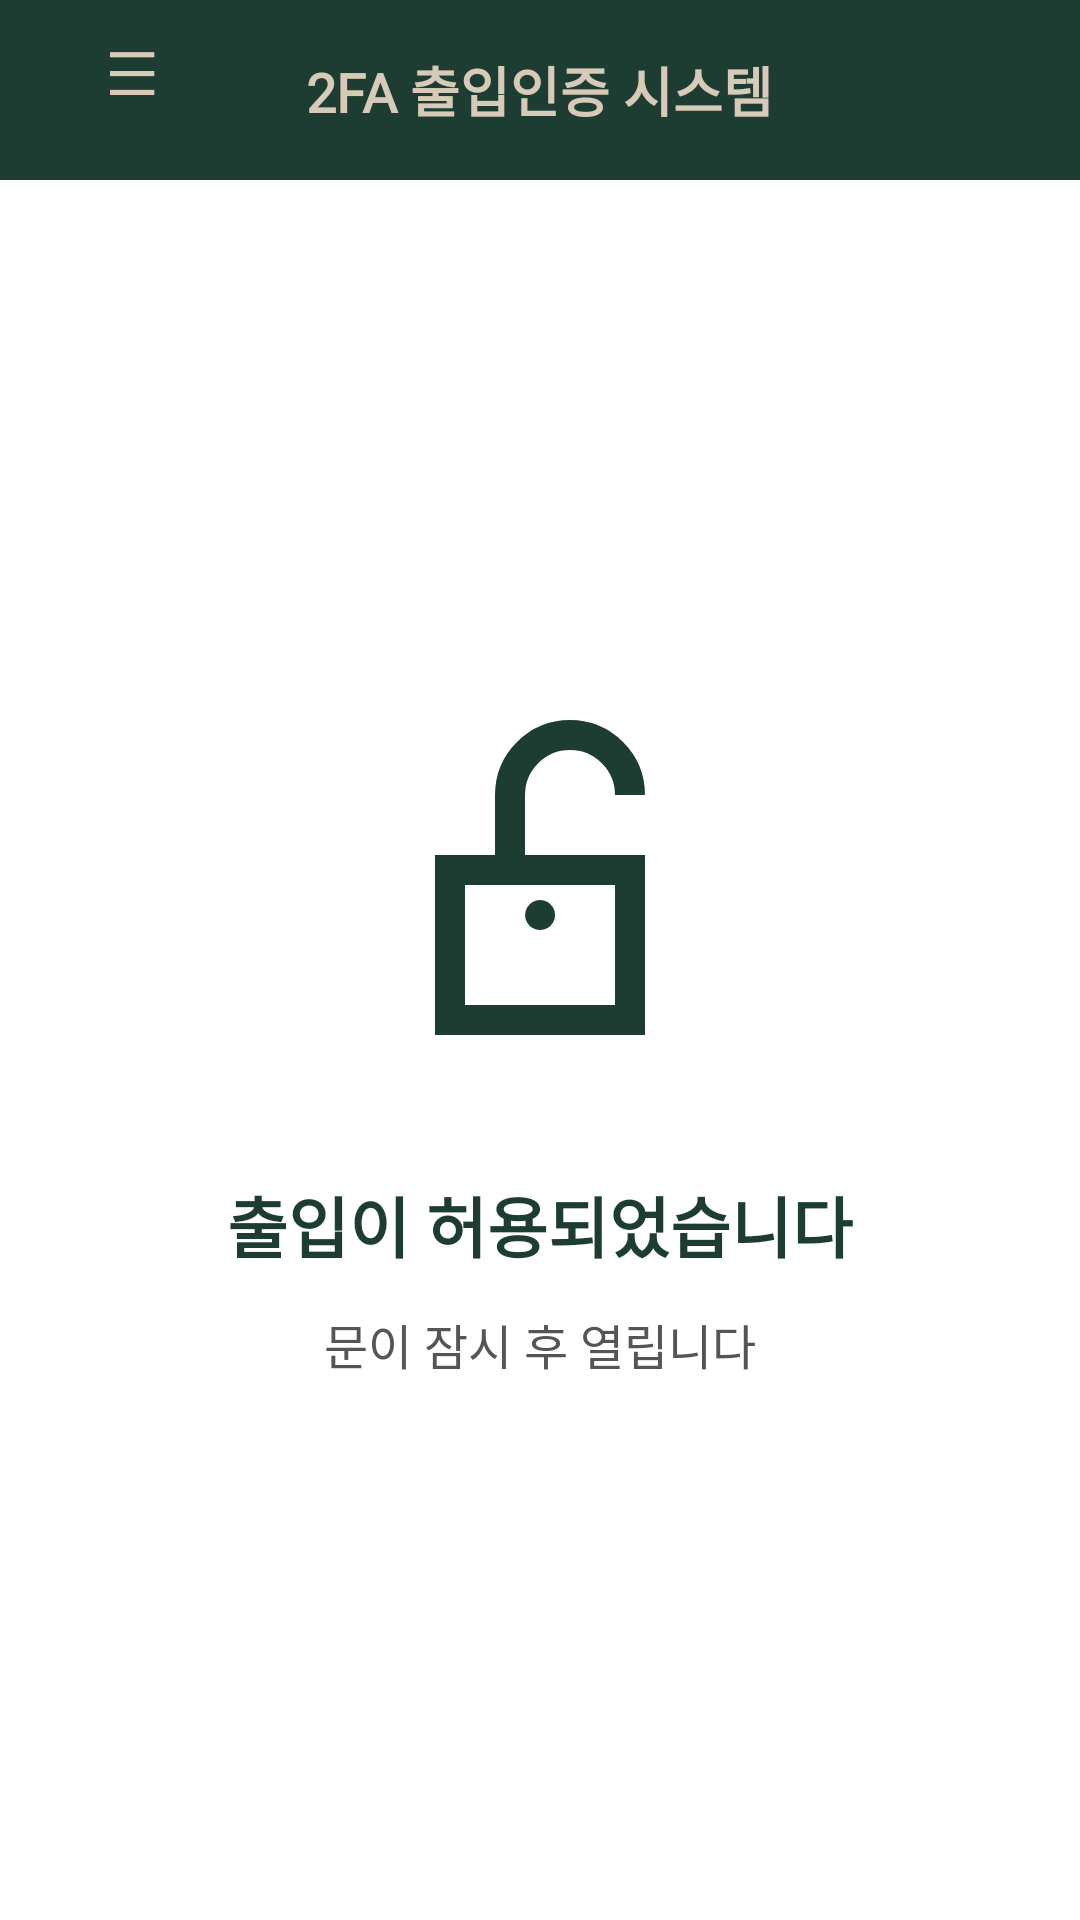

Point at icon controls on the screen. Image size 1080px x 1920px, points as (x,y).
자물쇠 아이콘: (540,877)
